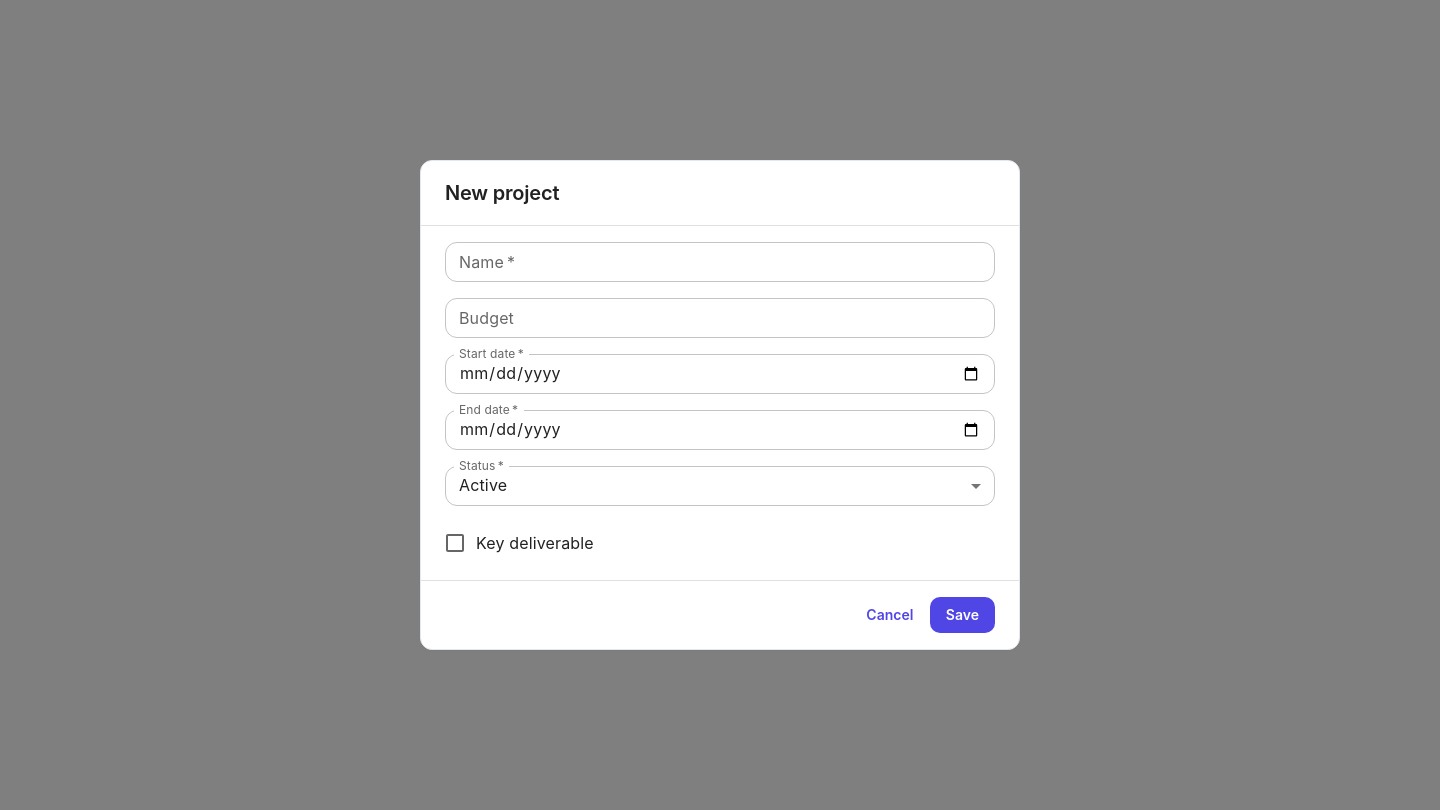
Test: FormDialog › marks required fields and blocks submission until they are valid
The image size is (1440, 810).
Click the button "Save" at (962, 615), box [930,597,995,633]
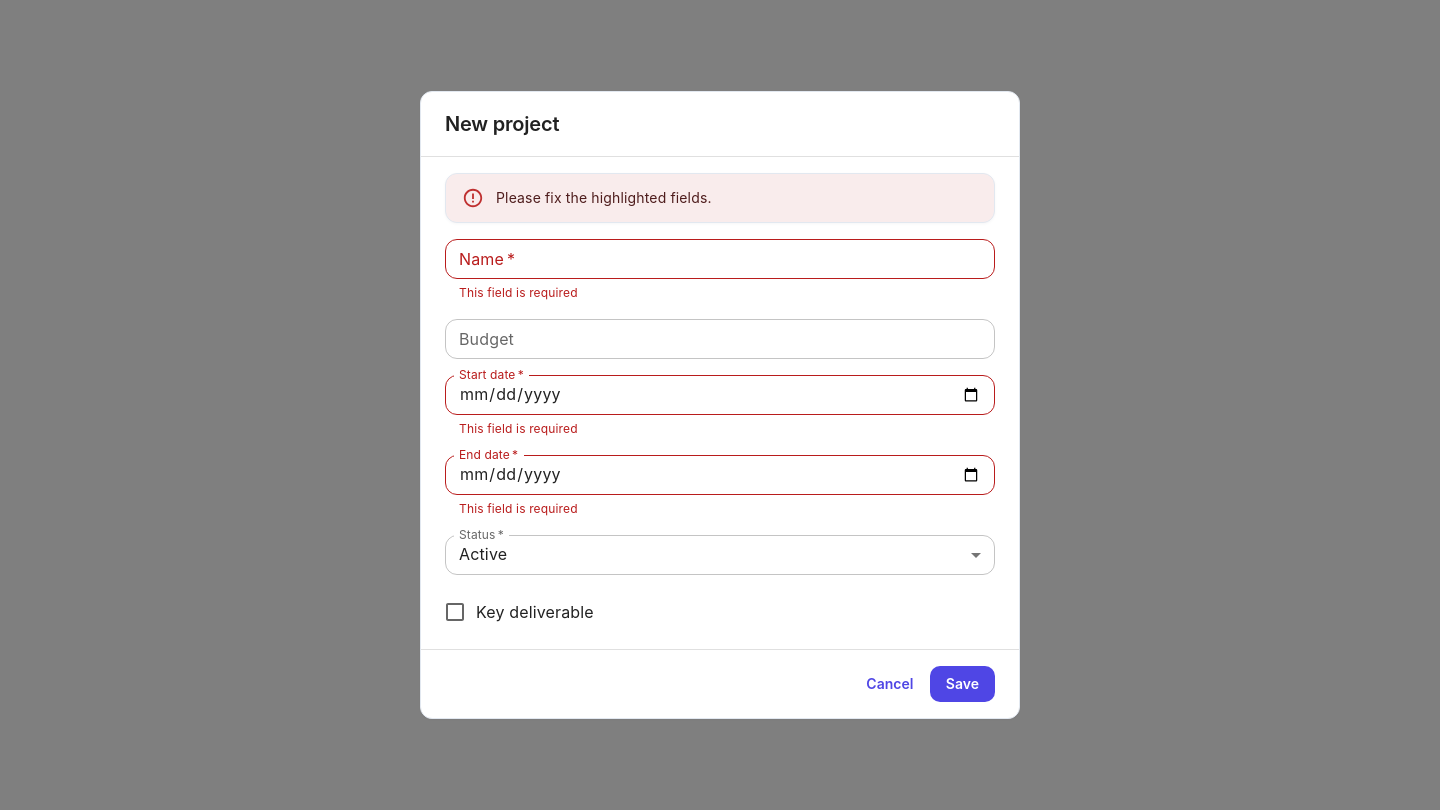
Check: the text "Please fix the highlighted fields." is shown, box [496,189,712,206]
Check: the text "This field is required" is shown 3 times, box [459,285,578,300]; [459,421,578,436]; [459,501,578,516]
